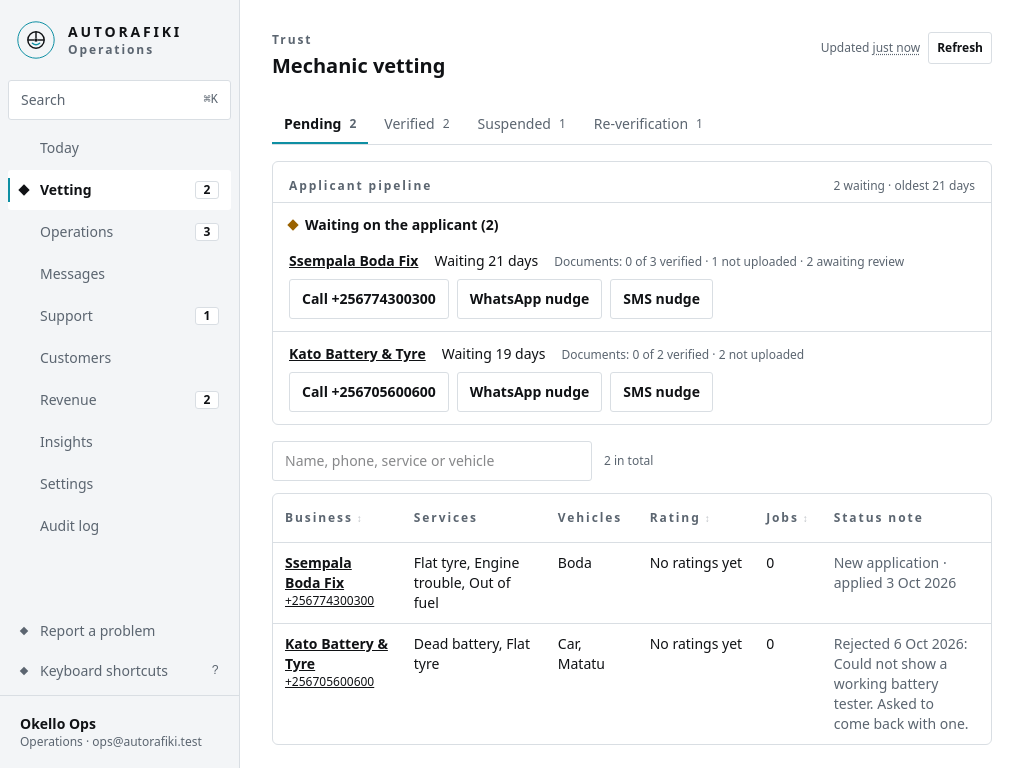
Test: pipeline on the Pending tab › groups applicants and offers a nudge to those who owe documents
The width and height of the screenshot is (1024, 768).
Expected: the list item that starts with "Ssempala Boda Fix" shows "Documents: 0 of 3 verified · 1 not uploaded · 2 awaiting review", [273,239,991,332]
// Other tabs do not show it.
Click the button "Verified 2" at (417, 124), box [372,104,462,144]
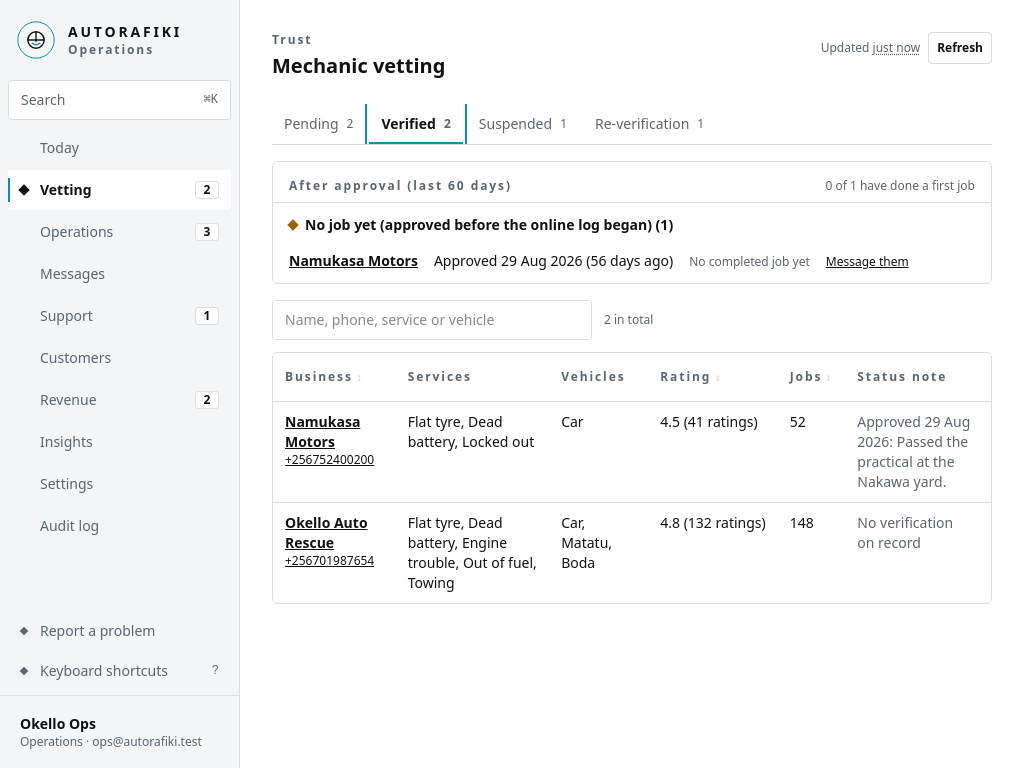
Expected: the heading "Applicant pipeline" is gone
